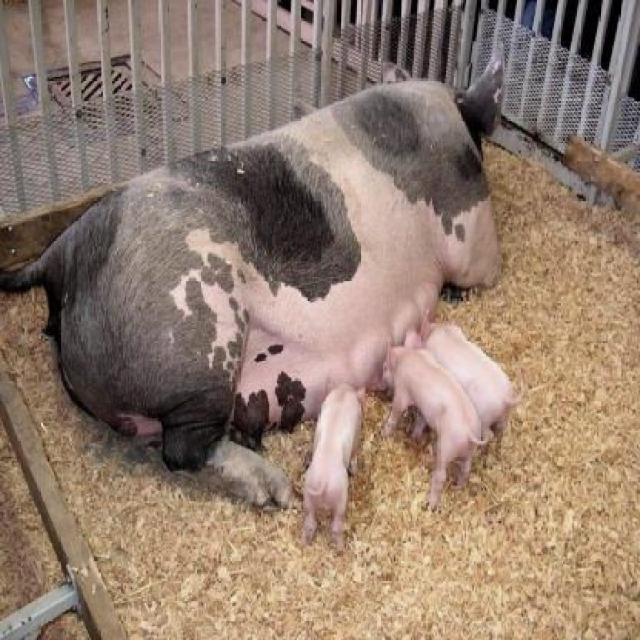Boar: (1, 40, 507, 557)
